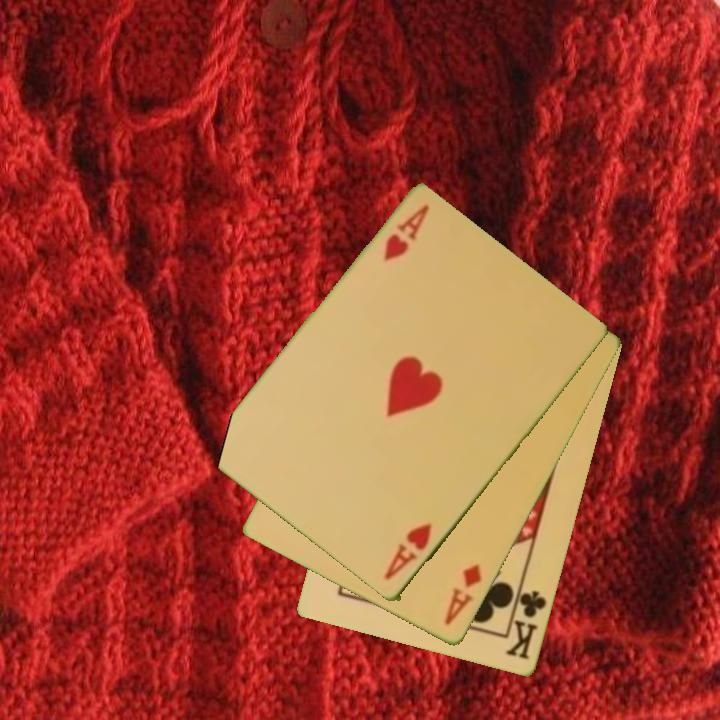Ad: (440, 561, 485, 629)
Ah: (380, 520, 436, 584), (380, 201, 433, 266)
Kc: (502, 579, 550, 663)
